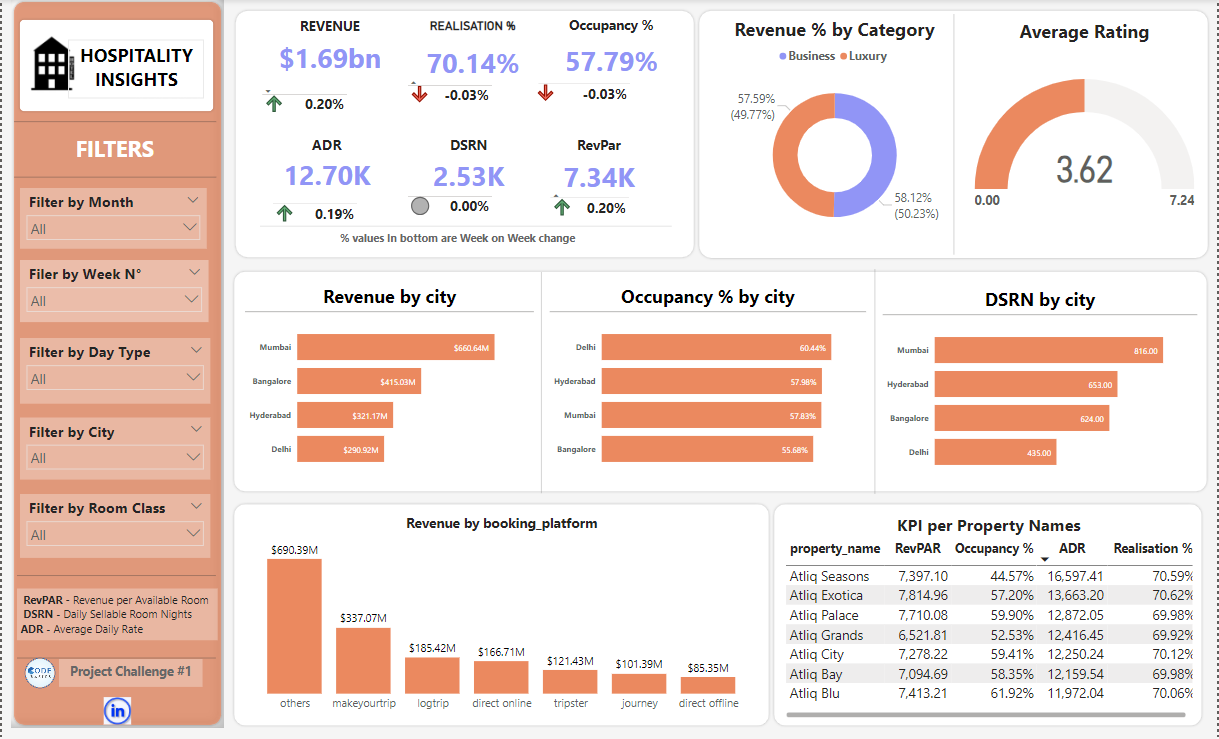

The page's visual inventory and layout, read from the dashboard file:
{"tool":"powerbi","page":{"name":"Home page","canvas":[1800,1100],"ordinal":3},"visuals":[{"type":"shape","box":[1141,743.6,641,335.9],"z":0},{"type":"shape","box":[342.2,13.3,686.7,373.3],"z":1000},{"type":"shape","box":[1028.2,12.8,761.5,374.4],"z":2000},{"type":"shape","box":[341,400,1448.7,333.3],"z":3000},{"type":"shape","box":[12.8,0,315.4,1079.5],"z":4000},{"type":"card","title":"REVENUE","fields":{"Values":["key_measures.Revenue"]},"box":[391.3,26.7,188.7,91.1],"z":5000,"group":"g3"},{"type":"shape","box":[341,743.6,800,335.9],"z":5000},{"type":"tableEx","fields":{"Values":["key_measures.Revenue WoW change %"]},"box":[383.6,119.9,192.3,56.4],"z":6000,"group":"g3"},{"type":"slicer","title":"Filter by city name","fields":{"Values":["dim_hotels.city"]},"box":[25.6,620.5,282.1,92.3],"z":6000},{"type":"slicer","title":"Filter by room type","fields":{"Values":["dim_rooms.room_class"]},"box":[25.6,733.3,282.1,94.9],"z":7000},{"type":"card","title":"RevPar","fields":{"Values":["key_measures.RevPAR"]},"box":[792.3,202.6,181.8,91.9],"z":8000,"group":"g2"},{"type":"slicer","title":"Filter by Week N°","fields":{"Values":["dim_date.week no"]},"box":[25.6,387.2,279.5,92.3],"z":8000},{"type":"donutChart","title":"Revenue % by Category","fields":{"Y":["key_measures.Occupancy %"],"Category":["dim_hotels.category"]},"box":[1066.7,26.7,333.3,340],"z":9000},{"type":"card","title":"DSRN","fields":{"Values":["key_measures.DSRN"]},"box":[600,202.6,182.1,91.3],"z":9000,"group":"g1"},{"type":"card","title":"Occupancy %","fields":{"Values":["key_measures.Occupancy %"]},"box":[792.1,25.3,222.7,105.9],"z":10000,"group":"g4"},{"type":"clusteredColumnChart","fields":{"Category":["fact_bookings.booking_platform"],"Y":["key_measures.Revenue"]},"box":[346.2,761.5,787.2,302.6],"z":10000},{"type":"card","title":"ADR","fields":{"Values":["key_measures.ADR"]},"box":[389.7,200,184.6,90.4],"z":11000,"group":"g5"},{"type":"tableEx","title":"KPI per Property Names","fields":{"Values":["dim_hotels.property_name","key_measures.RevPAR","key_measures.Occupancy %","key_measures.ADR","key_measures.Realisation %"]},"box":[1156.4,761.5,612.8,307.7],"z":11000},{"type":"card","title":"REALISATION %","fields":{"Values":["key_measures.Realisation %"]},"box":[600,28.2,194.6,107.6],"z":12000,"group":"g6"},{"type":"textbox","box":[494.9,338.5,379.5,33.3],"z":12000},{"type":"gauge","fields":{"Y":["key_measures.Average Rating"]},"box":[1435.9,28.2,335.9,341],"z":13000},{"type":"group","id":"g1","title":"Group 1","box":[600,202.6,182.1,128.2],"z":14000},{"type":"group","id":"g2","title":"Group 2","box":[792.3,202.6,182.1,146.2],"z":15000},{"type":"group","id":"g3","title":"Group 3","box":[383.6,26.7,196.4,149.6],"z":16000},{"type":"group","id":"g4","title":"Group 4","box":[787.2,25.3,228.2,164.1],"z":17000},{"type":"group","id":"g5","title":"Group 5","box":[389.7,200,184.6,151.3],"z":18000},{"type":"tableEx","fields":{"Values":["key_measures.Revpar WoW change %"]},"box":[810.5,273.6,147.3,75.2],"z":18000,"group":"g2"},{"type":"group","id":"g6","title":"Group 6","box":[600,28.2,194.9,164.1],"z":19000},{"type":"tableEx","fields":{"Values":["key_measures.DSRN WoW change %"]},"box":[600,270.7,182.1,60.5],"z":19000,"group":"g1"},{"type":"tableEx","fields":{"Values":["key_measures.Realisation WoW change %"]},"box":[600,106.1,194.9,86.2],"z":20000,"group":"g6"},{"type":"shape","box":[382.1,328.2,610.3,15.4],"z":20000},{"type":"slicer","title":"Filter by Month","fields":{"Values":["dim_date.mmm yy"]},"box":[25.6,279.5,276.9,89.7],"z":21000},{"type":"tableEx","fields":{"Values":["key_measures.ADR WoW change %"]},"box":[401.2,281.5,173.1,68.8],"z":21000,"group":"g5"},{"type":"tableEx","fields":{"Values":["key_measures.Realisation WoW change %"]},"box":[787.2,106.4,222.7,84],"z":22000,"group":"g4"},{"type":"clusteredBarChart","fields":{"Category":["dim_hotels.city"],"Y":["key_measures.Revenue"]},"box":[359,423.1,428.2,289.7],"z":22000},{"type":"clusteredBarChart","fields":{"Category":["dim_hotels.city"],"Y":["key_measures.Occupancy %"]},"box":[810.3,423.1,469.2,289.7],"z":23000},{"type":"shape","box":[1400,23.1,20.5,356.4],"z":24000},{"type":"clusteredBarChart","fields":{"Category":["dim_hotels.city"],"Y":["key_measures.DSRN"]},"box":[1305.1,425.6,466.7,289.7],"z":25000},{"type":"shape","box":[1276.9,400,30.8,333.3],"z":26000},{"type":"shape","box":[789.7,405.1,20.5,328.2],"z":27000},{"type":"slicer","fields":{"Values":["dim_date.day type"]},"box":[25.6,502.6,282.1,97.4],"z":28000},{"type":"shape","box":[17.9,251.3,300,25.6],"z":29000},{"type":"shape","box":[23.1,841,294.9,28.2],"z":30000},{"type":"textbox","box":[23.1,192.3,289.7,61.5],"z":31000},{"type":"shape","box":[23.1,25.6,294.9,143.6],"z":32000},{"type":"image","box":[30.8,48.7,89.7,97.4],"z":33000},{"type":"textbox","box":[97.4,59,202.6,87.2],"z":34000},{"type":"shape","box":[17.9,169.2,300,25.6],"z":35000},{"type":"textbox","box":[23.1,874.4,297.4,76.9],"z":36000},{"type":"shape","box":[23.1,961.5,294.9,28.2],"z":37000},{"type":"image","box":[25.6,969.2,59,59],"z":38000},{"type":"textbox","box":[84.6,976.9,212.8,41],"z":39000},{"type":"image","box":[112.8,1028.2,115.4,51.3],"z":39001}]}

Visuals, with their boxes in screenshot pixels (x1, y1, x2, y2), scaled from the page's 1800x1100 canvas onto the 1219x739 screenshot:
shape: {"x1": 773, "y1": 500, "x2": 1207, "y2": 725}
shape: {"x1": 232, "y1": 9, "x2": 697, "y2": 260}
shape: {"x1": 696, "y1": 9, "x2": 1212, "y2": 260}
shape: {"x1": 231, "y1": 269, "x2": 1212, "y2": 493}
shape: {"x1": 9, "y1": 0, "x2": 222, "y2": 725}
"REVENUE" card: {"x1": 265, "y1": 18, "x2": 393, "y2": 79}
shape: {"x1": 231, "y1": 500, "x2": 773, "y2": 725}
tableEx - key_measures.Revenue WoW change %: {"x1": 260, "y1": 81, "x2": 390, "y2": 118}
"Filter by city name" slicer: {"x1": 17, "y1": 417, "x2": 208, "y2": 479}
"Filter by room type" slicer: {"x1": 17, "y1": 493, "x2": 208, "y2": 556}
"RevPar" card: {"x1": 537, "y1": 136, "x2": 660, "y2": 198}
"Filter by Week N°" slicer: {"x1": 17, "y1": 260, "x2": 207, "y2": 322}
"Revenue % by Category" donutChart: {"x1": 722, "y1": 18, "x2": 948, "y2": 246}
"DSRN" card: {"x1": 406, "y1": 136, "x2": 530, "y2": 197}
"Occupancy %" card: {"x1": 536, "y1": 17, "x2": 687, "y2": 88}
clusteredColumnChart - fact_bookings.booking_platform x key_measures.Revenue: {"x1": 234, "y1": 512, "x2": 768, "y2": 715}
"ADR" card: {"x1": 264, "y1": 134, "x2": 389, "y2": 195}
"KPI per Property Names" tableEx: {"x1": 783, "y1": 512, "x2": 1198, "y2": 718}
"REALISATION %" card: {"x1": 406, "y1": 19, "x2": 538, "y2": 91}
textbox: {"x1": 335, "y1": 227, "x2": 592, "y2": 250}
gauge - key_measures.Average Rating: {"x1": 972, "y1": 19, "x2": 1200, "y2": 248}
"Group 1" group: {"x1": 406, "y1": 136, "x2": 530, "y2": 222}
"Group 2" group: {"x1": 537, "y1": 136, "x2": 660, "y2": 234}
"Group 3" group: {"x1": 260, "y1": 18, "x2": 393, "y2": 118}
"Group 4" group: {"x1": 533, "y1": 17, "x2": 688, "y2": 127}
"Group 5" group: {"x1": 264, "y1": 134, "x2": 389, "y2": 236}
tableEx - key_measures.Revpar WoW change %: {"x1": 549, "y1": 184, "x2": 649, "y2": 234}
"Group 6" group: {"x1": 406, "y1": 19, "x2": 538, "y2": 129}
tableEx - key_measures.DSRN WoW change %: {"x1": 406, "y1": 182, "x2": 530, "y2": 223}
tableEx - key_measures.Realisation WoW change %: {"x1": 406, "y1": 71, "x2": 538, "y2": 129}
shape: {"x1": 259, "y1": 220, "x2": 672, "y2": 231}
"Filter by Month" slicer: {"x1": 17, "y1": 188, "x2": 205, "y2": 248}
tableEx - key_measures.ADR WoW change %: {"x1": 272, "y1": 189, "x2": 389, "y2": 235}
tableEx - key_measures.Realisation WoW change %: {"x1": 533, "y1": 71, "x2": 684, "y2": 128}
clusteredBarChart - dim_hotels.city x key_measures.Revenue: {"x1": 243, "y1": 284, "x2": 533, "y2": 479}
clusteredBarChart - dim_hotels.city x key_measures.Occupancy %: {"x1": 549, "y1": 284, "x2": 867, "y2": 479}
shape: {"x1": 948, "y1": 16, "x2": 962, "y2": 255}
clusteredBarChart - dim_hotels.city x key_measures.DSRN: {"x1": 884, "y1": 286, "x2": 1200, "y2": 481}
shape: {"x1": 865, "y1": 269, "x2": 886, "y2": 493}
shape: {"x1": 535, "y1": 272, "x2": 549, "y2": 493}
slicer - dim_date.day type: {"x1": 17, "y1": 338, "x2": 208, "y2": 403}
shape: {"x1": 12, "y1": 169, "x2": 215, "y2": 186}
shape: {"x1": 16, "y1": 565, "x2": 215, "y2": 584}
textbox: {"x1": 16, "y1": 129, "x2": 212, "y2": 171}
shape: {"x1": 16, "y1": 17, "x2": 215, "y2": 114}
image: {"x1": 21, "y1": 33, "x2": 82, "y2": 98}
textbox: {"x1": 66, "y1": 40, "x2": 203, "y2": 98}
shape: {"x1": 12, "y1": 114, "x2": 215, "y2": 131}
textbox: {"x1": 16, "y1": 587, "x2": 217, "y2": 639}
shape: {"x1": 16, "y1": 646, "x2": 215, "y2": 665}
image: {"x1": 17, "y1": 651, "x2": 57, "y2": 691}
textbox: {"x1": 57, "y1": 656, "x2": 201, "y2": 684}
image: {"x1": 76, "y1": 691, "x2": 155, "y2": 725}
